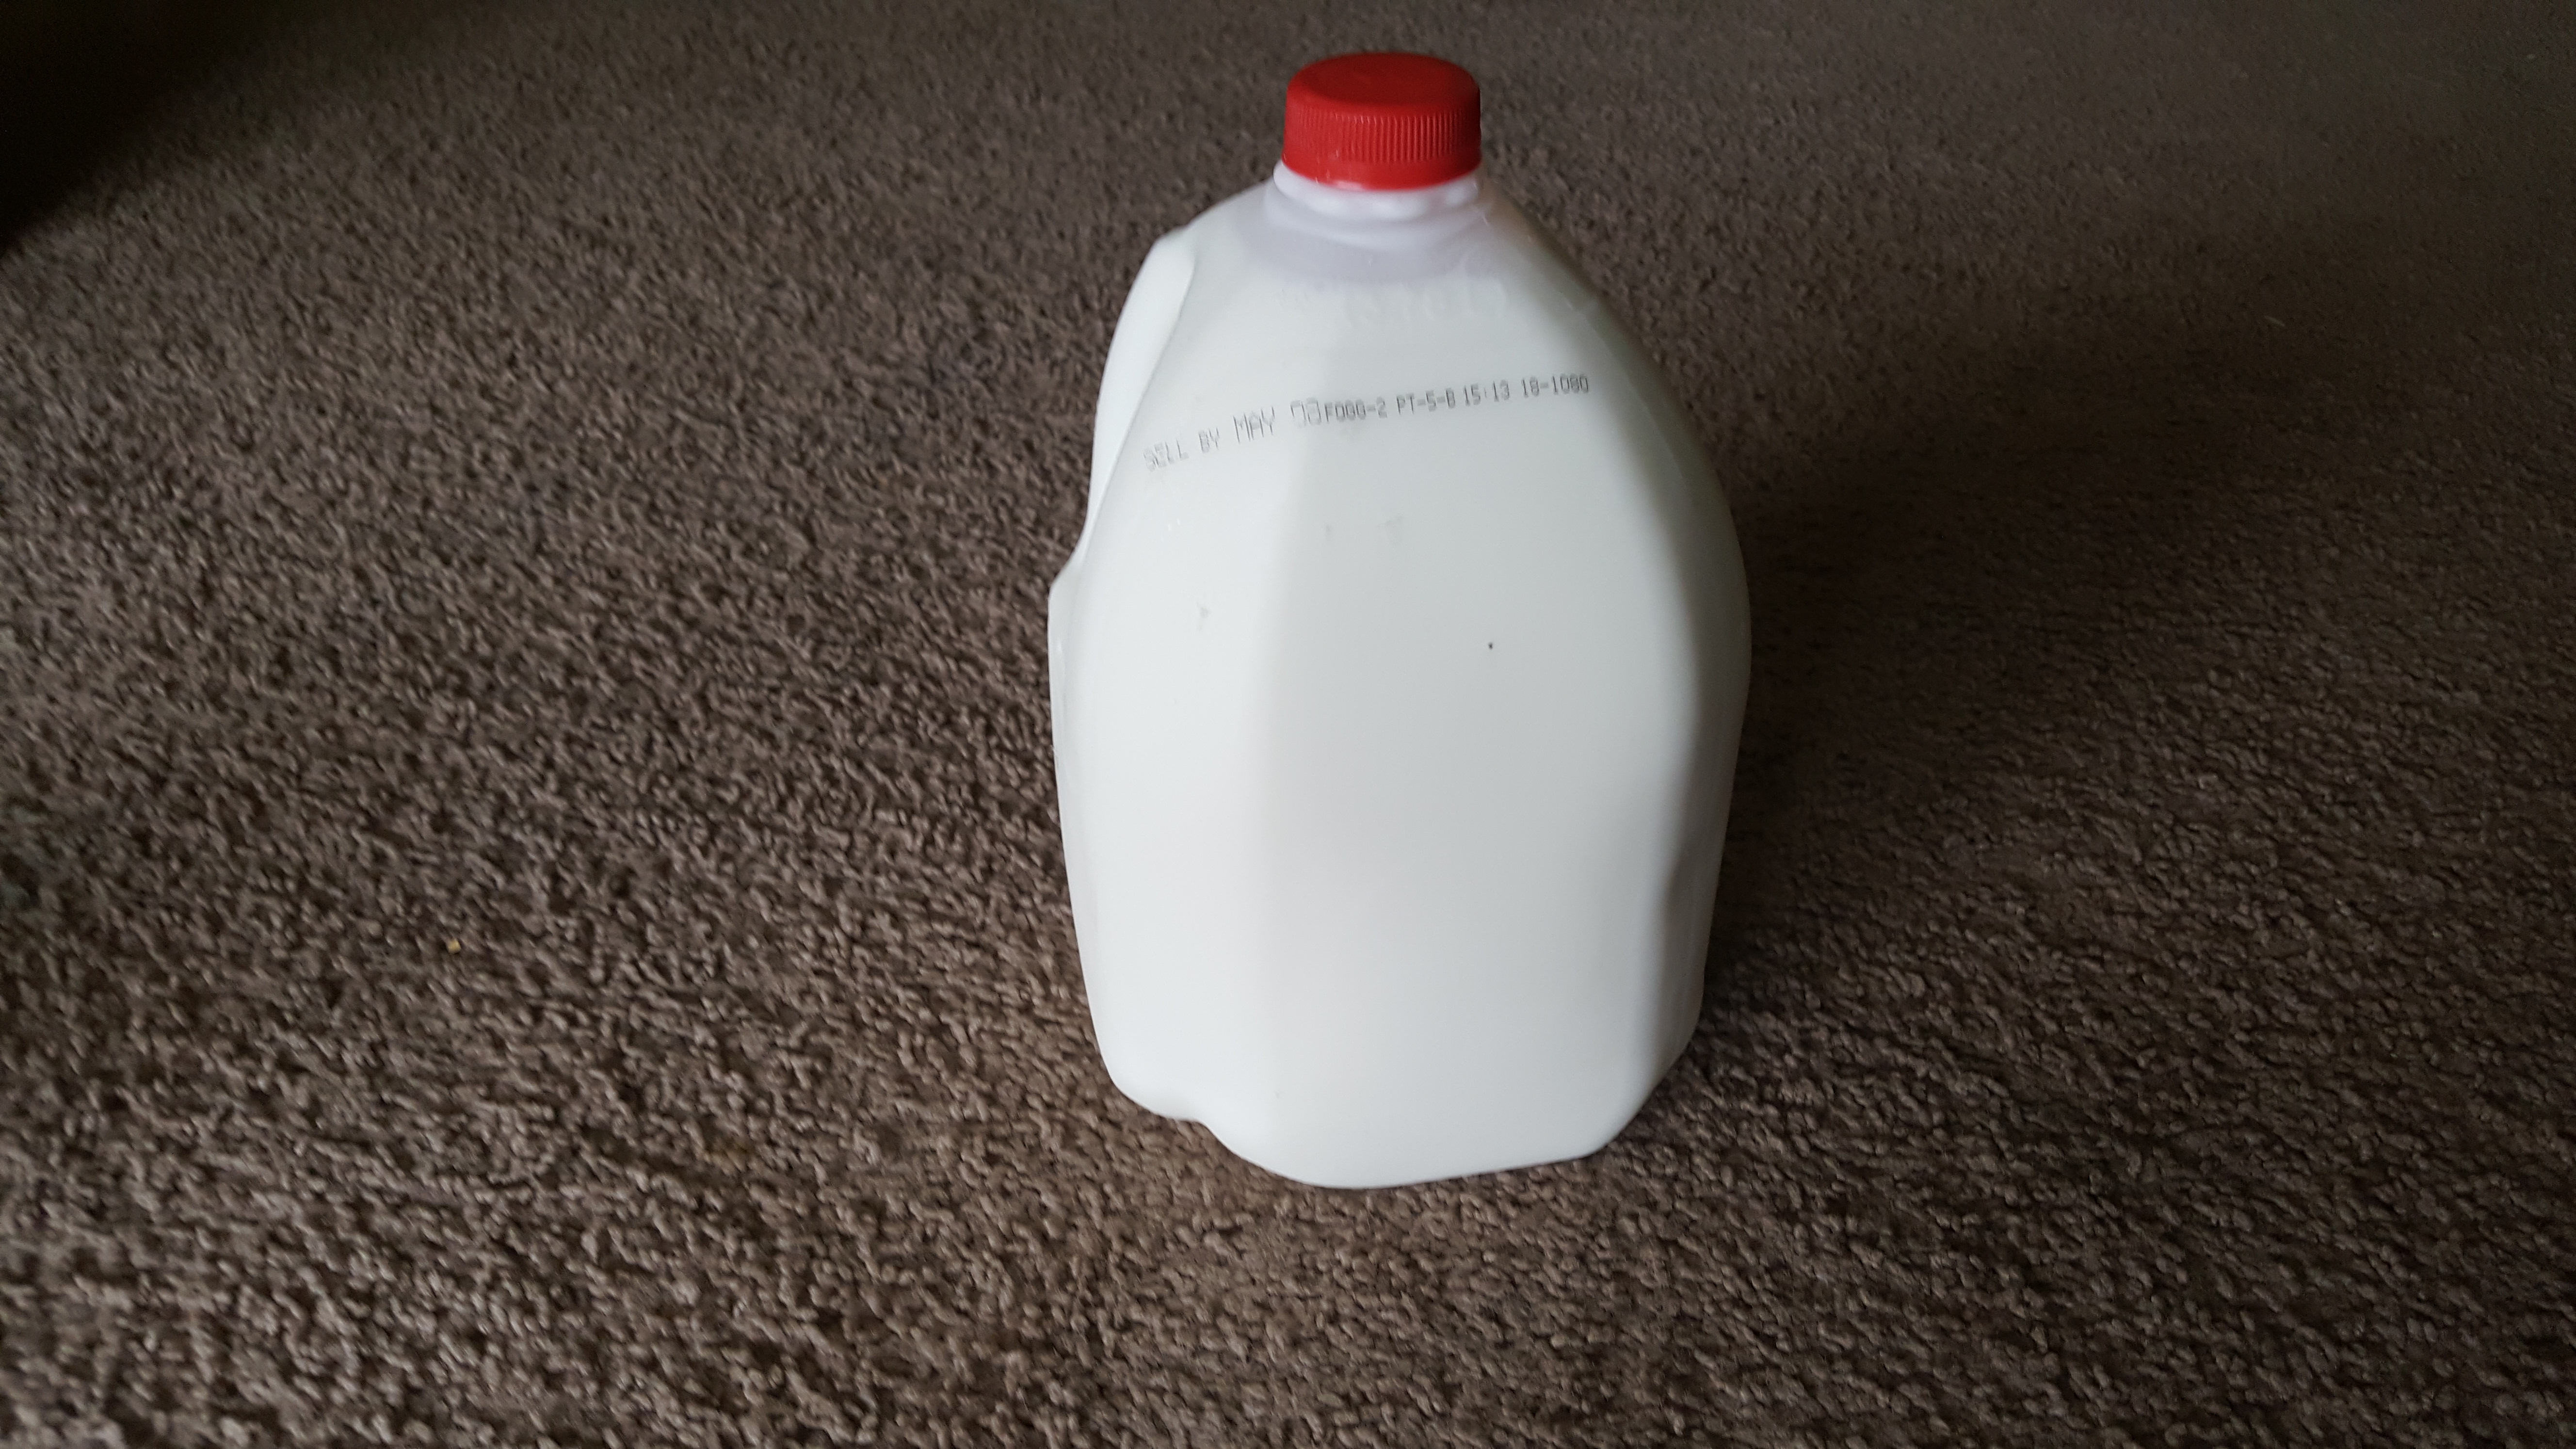milk: (975, 55, 1775, 1178)
